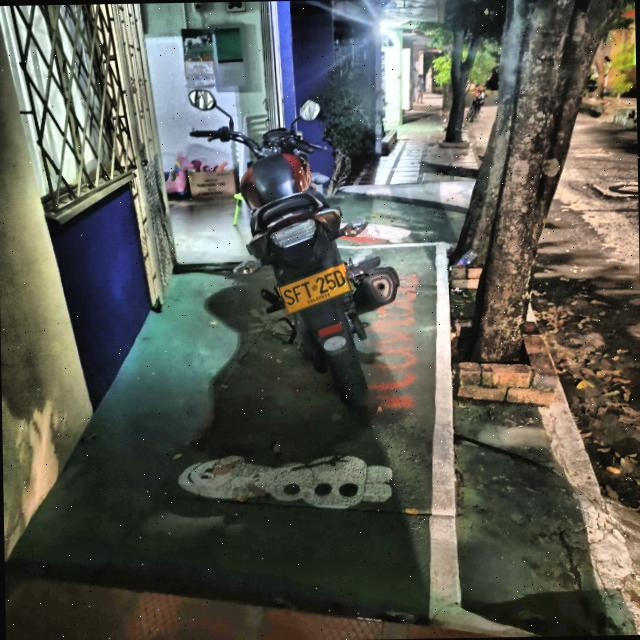plate: (273, 260, 353, 316)
